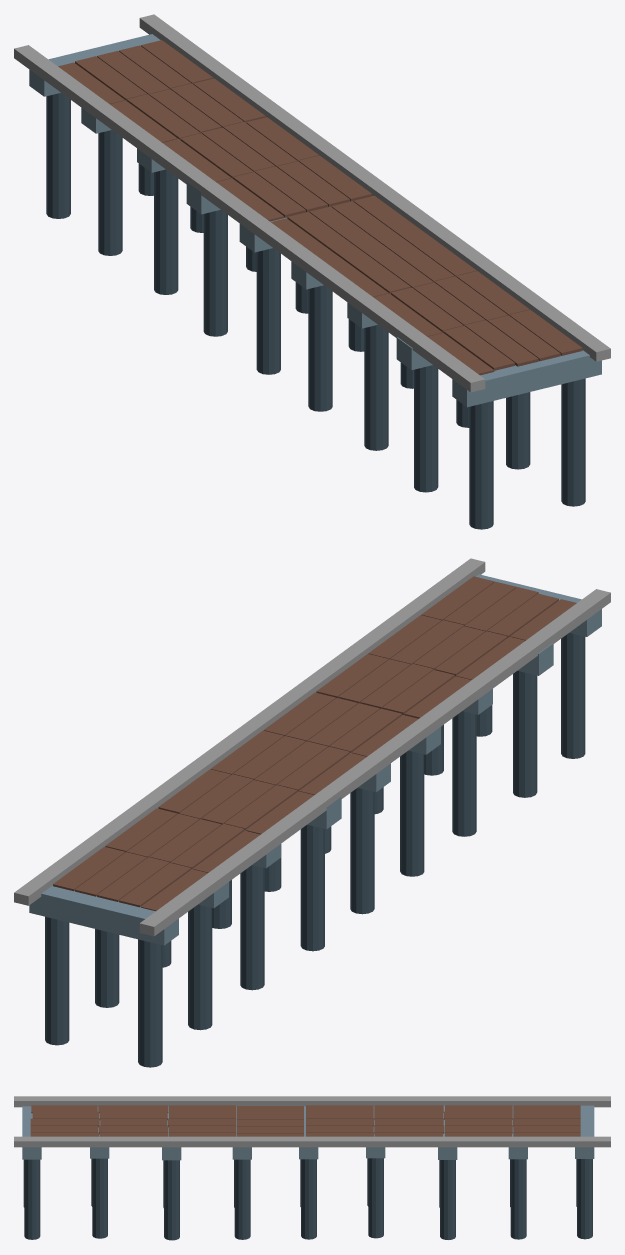
The model's file is dock.glb.
3 views of the same model, one above another, from view 1: azimuth 30°, elevation 25°; view 2: azimuth 150°, elevation 25°; view 3: azimuth 270°, elevation 25° (orthographic). The views are drawn at different scales.
Visible parts, largest first — view 1: group1915664950, group1449723076, group2094383461, group967139872, group651820503, group1531649586, group399796857, group708455435, group30773341, group913359233, group992261283, group267177202 (+43 smaller); view 2: group1915664950, group1449723076, group2125578627, group1168459618, group913359233, group1531649586, group399796857, group708455435, group30773341, group967139872, group992261283, group267177202 (+43 smaller); view 3: group1449723076, group1915664950, group812431462, group651820503, group18594053, group446339050, group1475809206, group373659363, group1349716218, group1168459618, group1511047612, group2125578627 (+48 smaller).
Part boxes in pixels (x1=…): group1915664950: x1=14, y1=45, x2=485, y2=392; group1449723076: x1=139, y1=14, x2=610, y2=361; group2094383461: x1=452, y1=350, x2=601, y2=407; group967139872: x1=469, y1=401, x2=493, y2=529; group651820503: x1=561, y1=378, x2=585, y2=506; group1531649586: x1=414, y1=365, x2=438, y2=492; group399796857: x1=203, y1=210, x2=227, y2=336; group708455435: x1=256, y1=248, x2=280, y2=374; group30773341: x1=308, y1=285, x2=332, y2=411; group913359233: x1=46, y1=93, x2=70, y2=218; group992261283: x1=364, y1=325, x2=388, y2=450; group267177202: x1=98, y1=130, x2=122, y2=255; group1915664950: x1=139, y1=589, x2=610, y2=936; group1449723076: x1=14, y1=558, x2=485, y2=905; group2125578627: x1=29, y1=885, x2=178, y2=945; group1168459618: x1=45, y1=916, x2=69, y2=1045; group913359233: x1=138, y1=939, x2=162, y2=1067; group1531649586: x1=513, y1=671, x2=537, y2=797; group399796857: x1=300, y1=824, x2=324, y2=951; group708455435: x1=350, y1=788, x2=374, y2=914; group30773341: x1=400, y1=750, x2=424, y2=876; group967139872: x1=561, y1=633, x2=585, y2=758; group992261283: x1=452, y1=711, x2=476, y2=836; group267177202: x1=188, y1=904, x2=212, y2=1030; group1449723076: x1=14, y1=1136, x2=610, y2=1147; group1915664950: x1=14, y1=1096, x2=610, y2=1107; group812431462: x1=234, y1=1159, x2=250, y2=1239; group651820503: x1=24, y1=1159, x2=40, y2=1239; group18594053: x1=510, y1=1159, x2=526, y2=1239; group446339050: x1=92, y1=1158, x2=107, y2=1238; group1475809206: x1=301, y1=1159, x2=316, y2=1239; group373659363: x1=164, y1=1160, x2=179, y2=1240; group1349716218: x1=368, y1=1158, x2=383, y2=1238; group1168459618: x1=577, y1=1159, x2=592, y2=1239; group1511047612: x1=440, y1=1160, x2=455, y2=1239; group2125578627: x1=575, y1=1105, x2=594, y2=1158.
Size of the model in its own units: 1.54 by 1.64 by 8.63.
